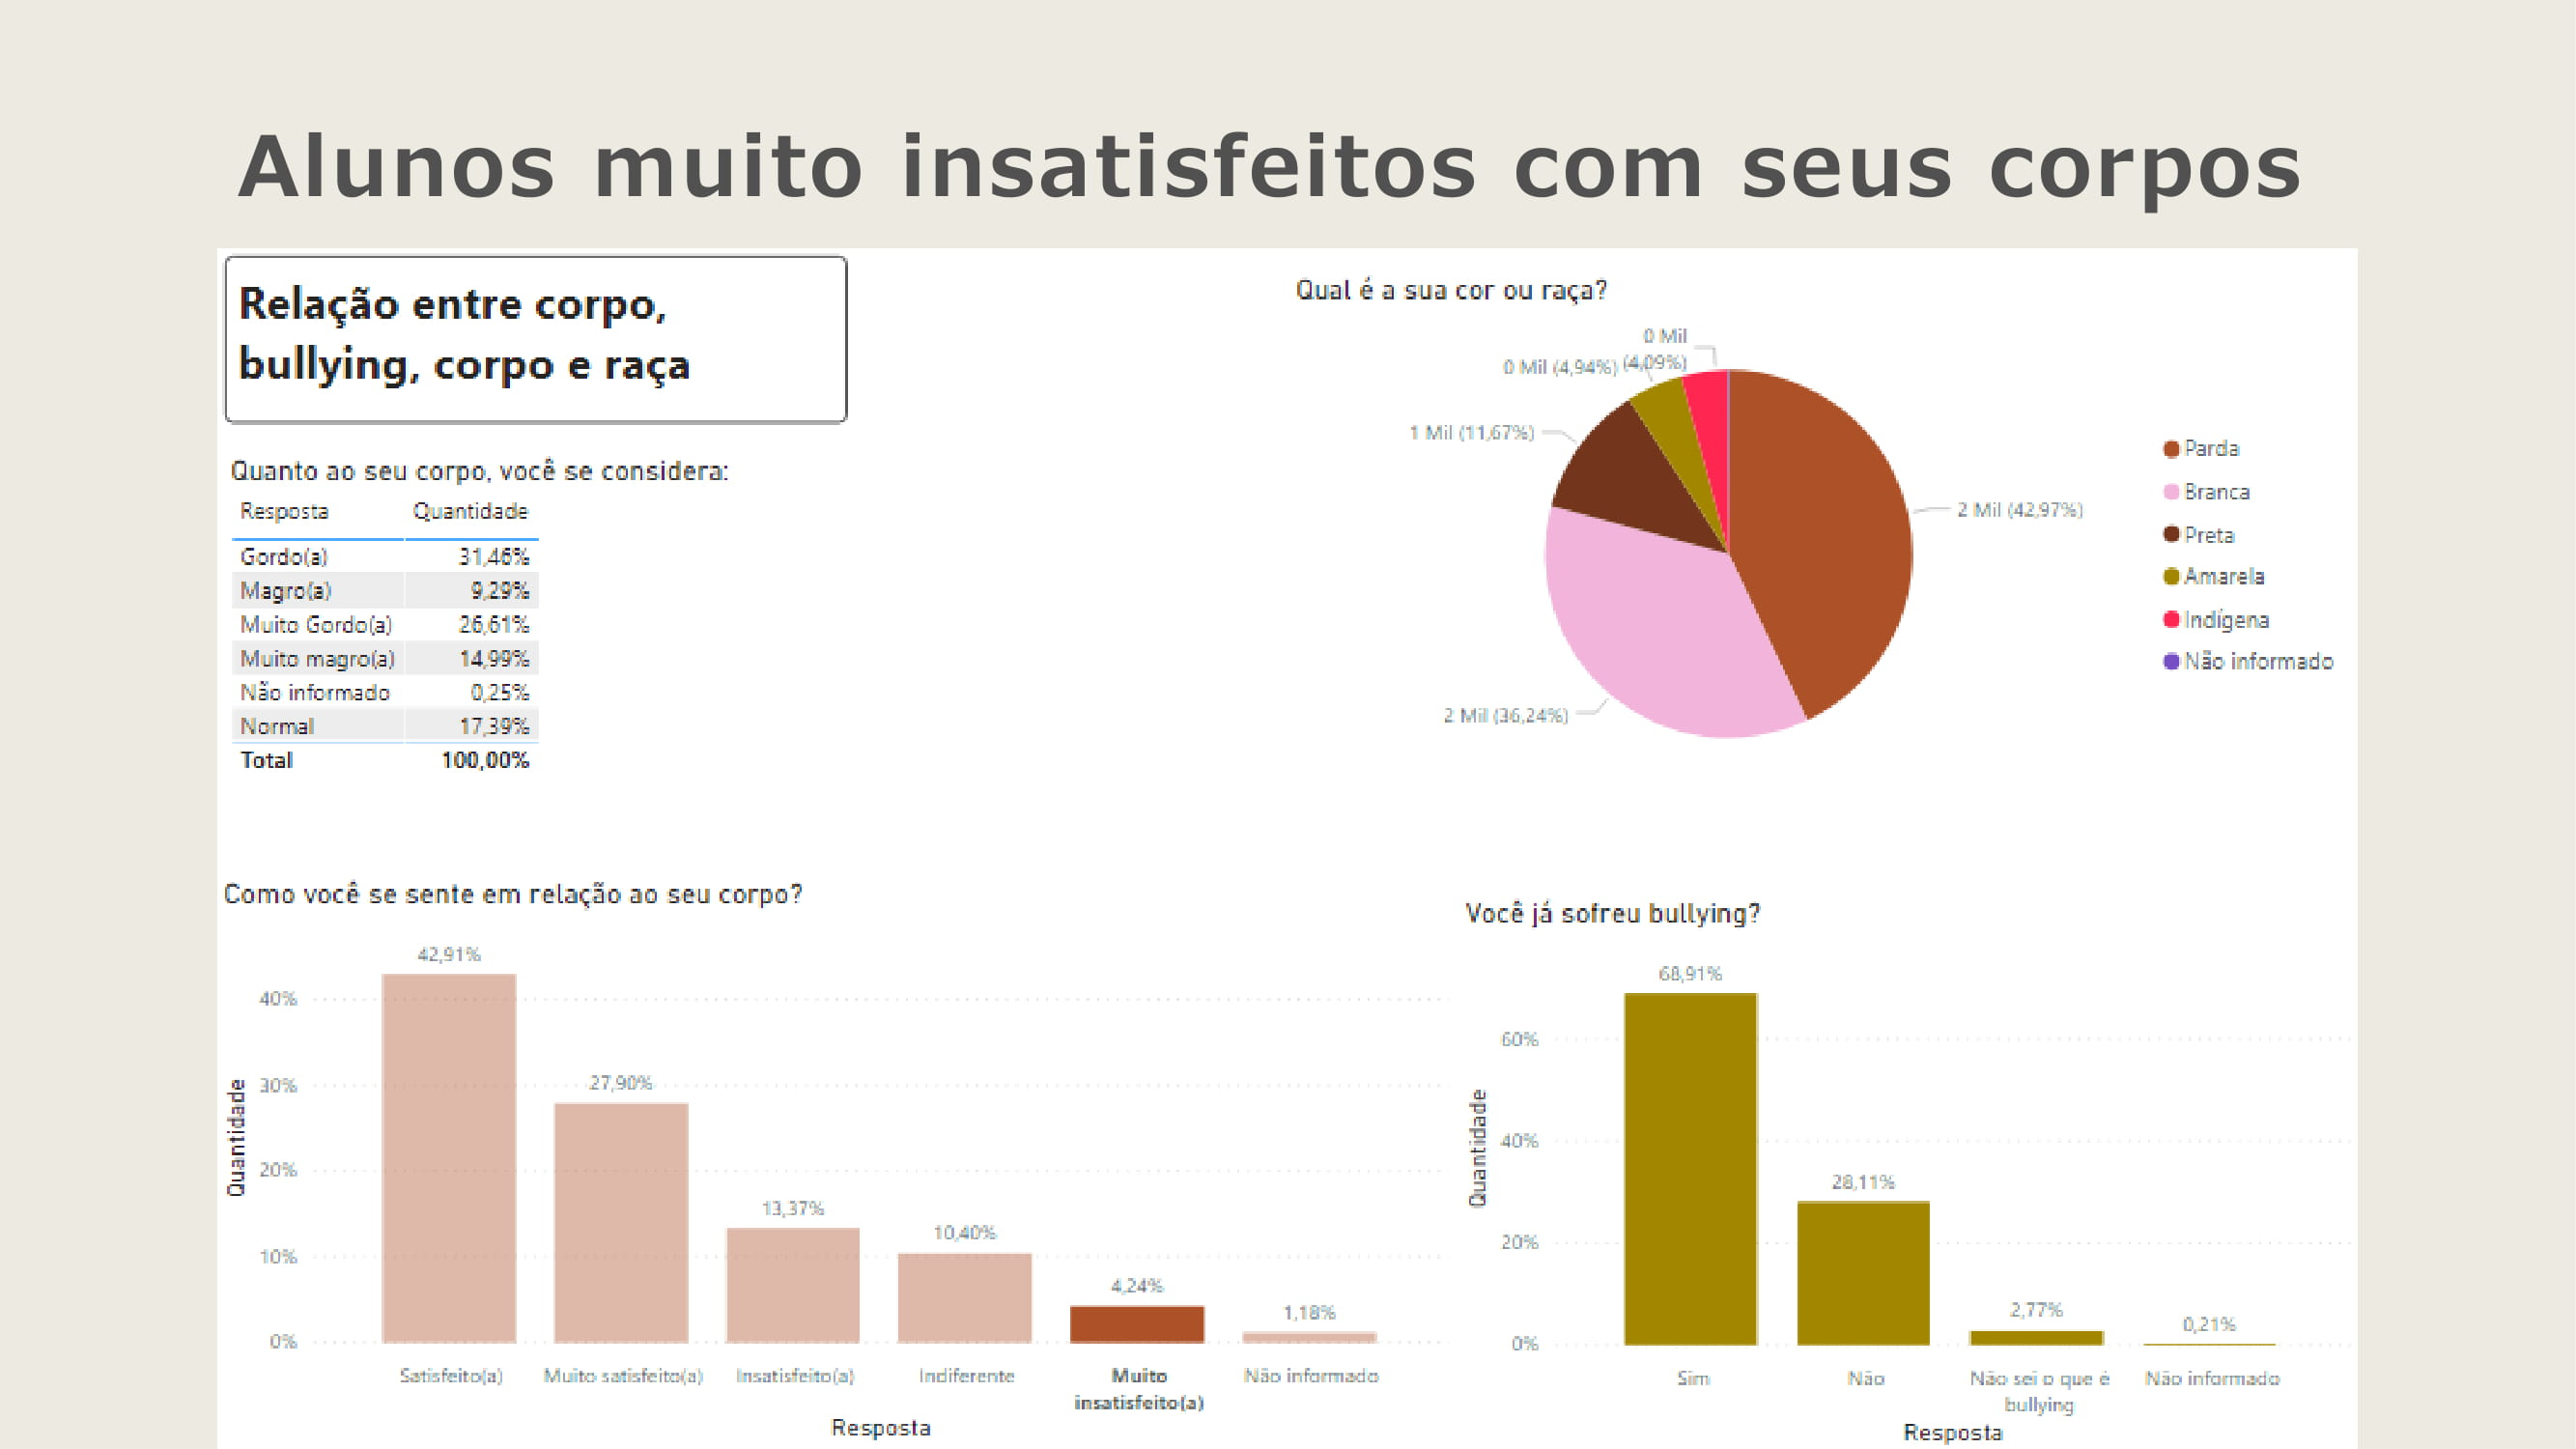

The dashboard page shown, as its layout file describes it:
{"tool":"powerbi","page":{"name":"Corpo e bullying","canvas":[1280,720],"ordinal":2},"visuals":[{"type":"clusteredColumnChart","title":"Você já sofreu bullying?","fields":{"Category":["P_Você já sofreu bullying?.Resposta"],"Y":["Sum(Respotas_Questionario.cont)"]},"box":[741.1,387.9,538.9,332.1],"z":0},{"type":"clusteredColumnChart","title":"Como você se sente em relação ao seu corpo?","fields":{"Category":["P_Como se sente em relação ao seu corpo?.Resposta"],"Y":["Sum(Respotas_Questionario.cont)"]},"box":[0,377.3,742.3,342.1],"z":1000},{"type":"tableEx","title":"Quanto ao seu corpo, você se considera:","fields":{"Values":["P_Quanto ao seu corpo, você se considera:.Resposta","Sum(Respotas_Questionario.cont)"]},"box":[4.6,123.7,319.2,209.3],"z":2000},{"type":"textbox","box":[5.8,5.8,372.3,99.6],"z":3000},{"type":"pieChart","title":"Qual é a sua cor ou raça?","fields":{"Y":["Sum(Respotas_Questionario.cont)"],"Category":["P_Qual é a sua cor ou raça?.Resposta"]},"box":[640.6,15.9,639.2,317.4],"z":4000}]}

Visuals, with their boxes in screenshot pixels (x1, y1, x2, y2), scaled from the page's 1280x720 canvas onto the 2576x1449 screenshot:
"Você já sofreu bullying?" clusteredColumnChart: (x1=1491, y1=781, x2=2575, y2=1448)
"Como você se sente em relação ao seu corpo?" clusteredColumnChart: (x1=0, y1=759, x2=1494, y2=1448)
"Quanto ao seu corpo, você se considera:" tableEx: (x1=10, y1=249, x2=652, y2=670)
textbox: (x1=12, y1=12, x2=761, y2=213)
"Qual é a sua cor ou raça?" pieChart: (x1=1289, y1=32, x2=2575, y2=670)
